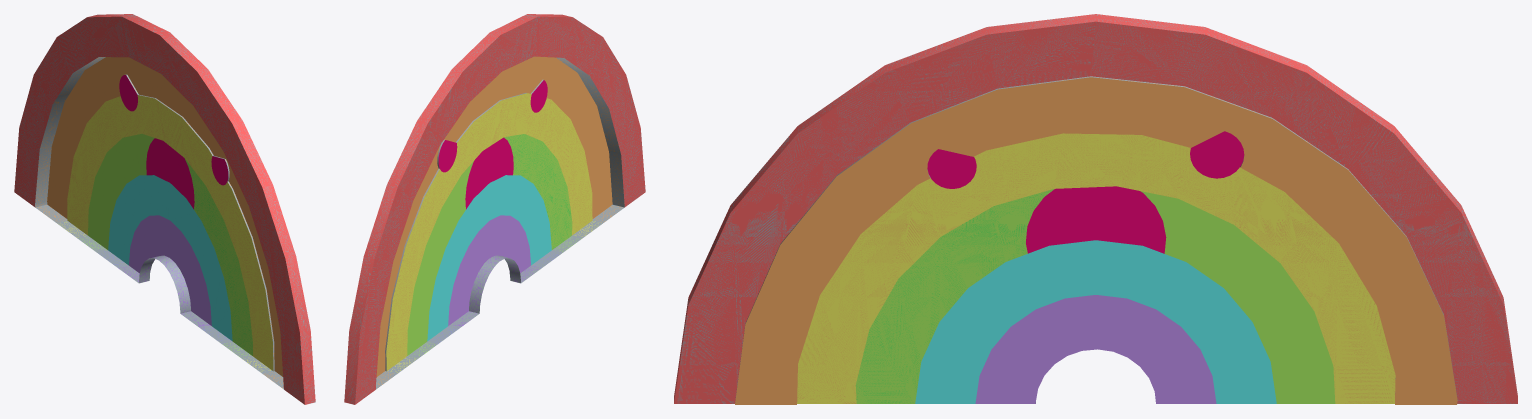
The model's file is Rainbow.fbx.
The picture shows the model from 3 angles, left to right: view 1: azimuth 30°, elevation 25°; view 2: azimuth 150°, elevation 25°; view 3: azimuth 270°, elevation 25°; orthographic projection. The views are drawn at different scales.
Parts seen in each view (by area): view 1: Model; view 2: Model; view 3: Model.
Part boxes in pixels (x1,y1,x2,y2): Model: [14, 14, 315, 404]; Model: [344, 14, 645, 404]; Model: [674, 14, 1517, 404].
Size of the model in its own units: 1.68 by 35 by 70.
